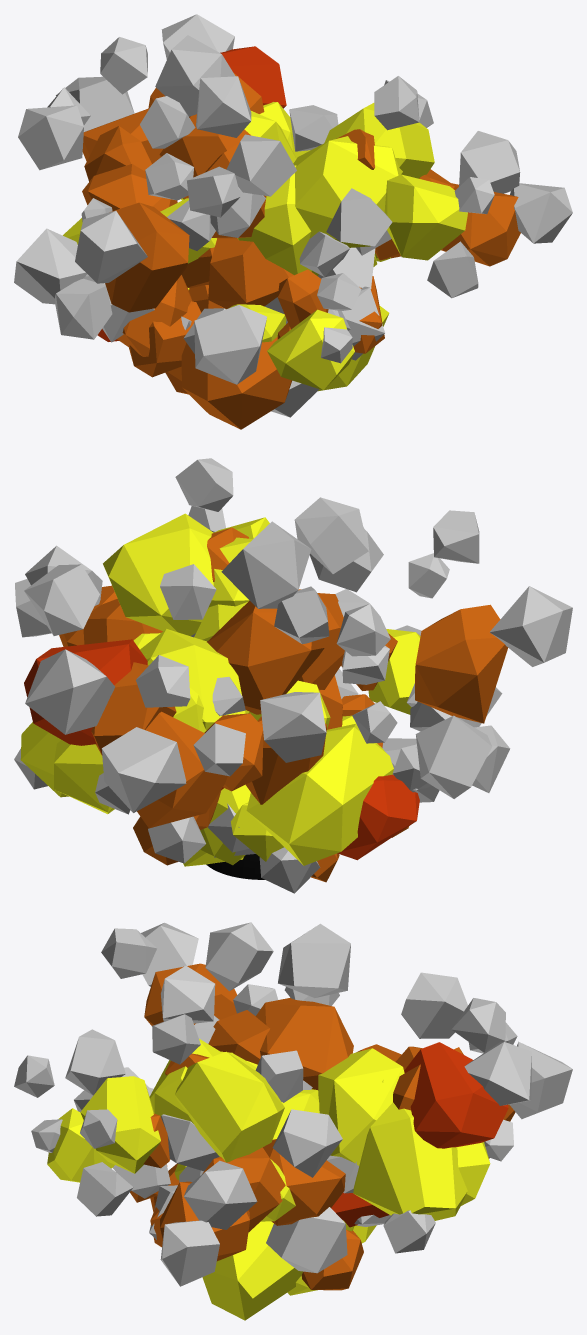
Rendered from Explosion0016.obj.
3 views of the same model, one above another, from view 1: azimuth 30°, elevation 25°; view 2: azimuth 150°, elevation 25°; view 3: azimuth 270°, elevation 25° (orthographic). The views are drawn at different scales.
Visible parts, largest first — view 1: Cube_Material, Cube.001_Material.002, Cube.002_Material.003, Cube.003_Material.004; view 2: Cube_Material, Cube.002_Material.003, Cube.001_Material.002, Cube.003_Material.004, Circle_Material.001; view 3: Cube_Material, Cube.002_Material.003, Cube.001_Material.002, Cube.003_Material.004.
Part boxes in pixels (x1,y1,x2,y2): Cube_Material: [14, 14, 572, 417]; Cube.001_Material.002: [82, 73, 520, 429]; Cube.002_Material.003: [63, 102, 467, 391]; Cube.003_Material.004: [97, 46, 286, 341]; Cube_Material: [14, 458, 572, 893]; Cube.002_Material.003: [20, 513, 420, 866]; Cube.001_Material.002: [59, 527, 507, 882]; Cube.003_Material.004: [24, 639, 419, 860]; Circle_Material.001: [206, 854, 264, 879]; Cube_Material: [14, 922, 572, 1286]; Cube.002_Material.003: [47, 1038, 490, 1320]; Cube.001_Material.002: [130, 963, 515, 1290]; Cube.003_Material.004: [331, 1042, 508, 1227].
Size of the model in its own units: 9.81 by 6.42 by 9.71.
